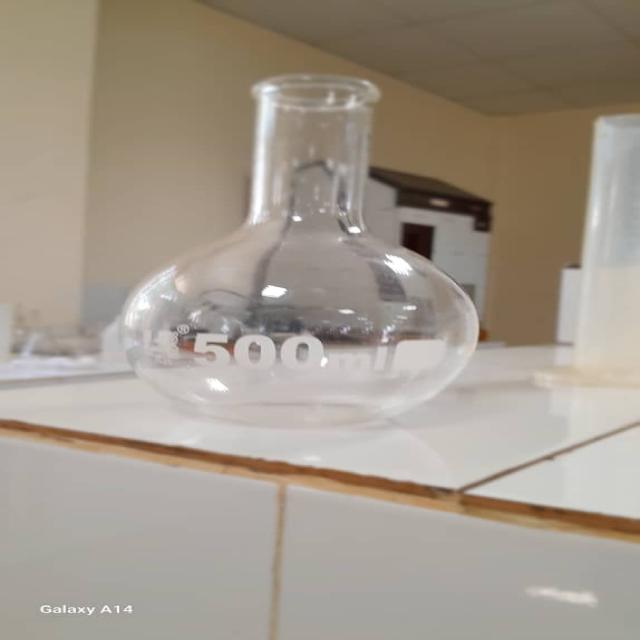Round Bottom Flask: (107, 78, 491, 434)
